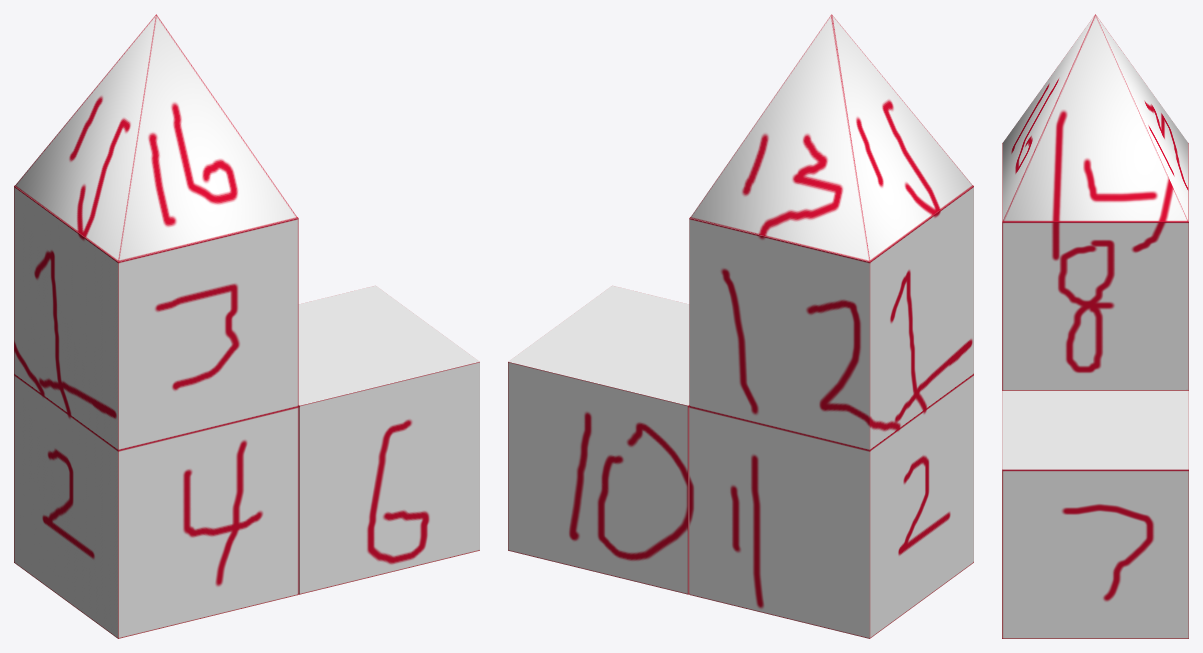
The model's file is stage.fbx.
3 views of the same model, side by side, from view 1: azimuth 30°, elevation 25°; view 2: azimuth 150°, elevation 25°; view 3: azimuth 270°, elevation 25° (orthographic). The views are drawn at different scales.
Parts seen in each view (by area): view 1: Pyramid_1; view 2: Pyramid_1; view 3: Pyramid_1.
Boxes of the visible parts, bbox=[...] form: Pyramid_1: bbox=[14, 14, 479, 638]; Pyramid_1: bbox=[508, 14, 973, 638]; Pyramid_1: bbox=[1002, 14, 1188, 638].
Size of the model in its own units: 401 by 598 by 200.
